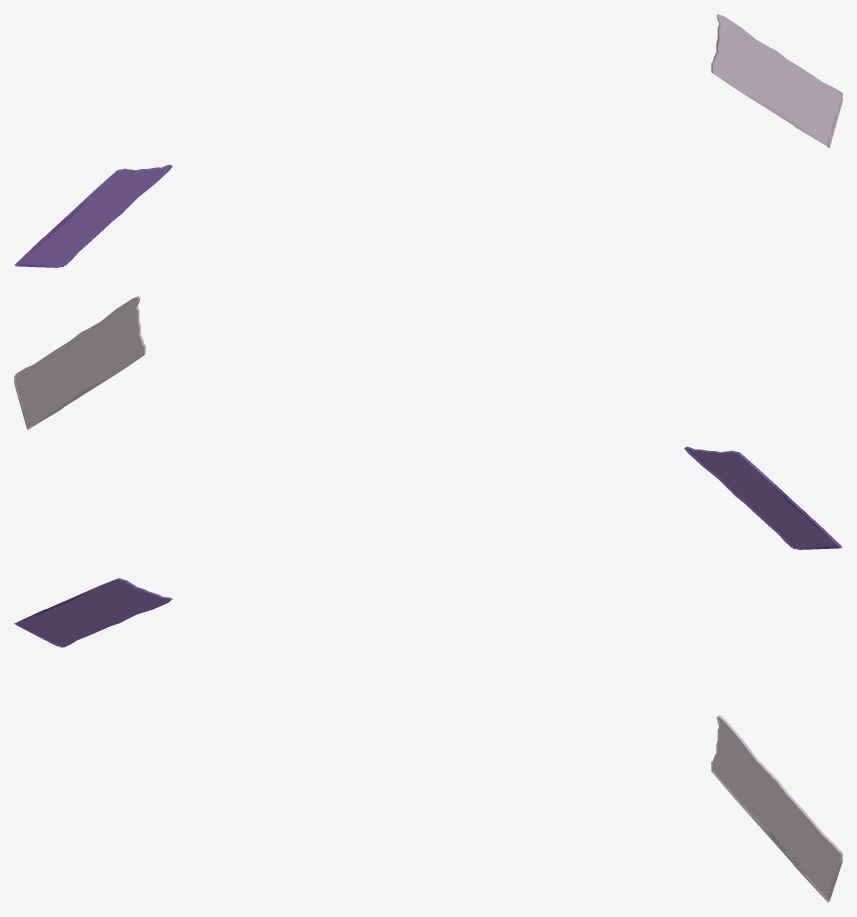
File: purple tape.fbx
3 renders of one model, top to bottom at view 1: azimuth 30°, elevation 25°; view 2: azimuth 150°, elevation 25°; view 3: azimuth 330°, elevation 25°, orthographic.
Parts seen in each view (by area): view 1: polySurface107; view 2: polySurface107; view 3: polySurface107.
Part boxes in pixels (x1,y1,x2,y2): polySurface107: (14, 14, 842, 267); polySurface107: (14, 296, 842, 549); polySurface107: (14, 578, 842, 902).
Bounding box in the file's own units: 16.12 × 2.98 × 0.0598.
